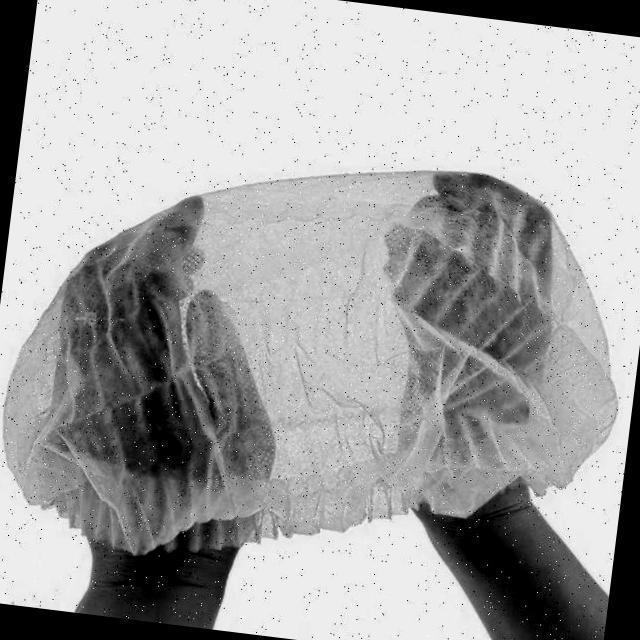gloves: (16, 156, 599, 554)
